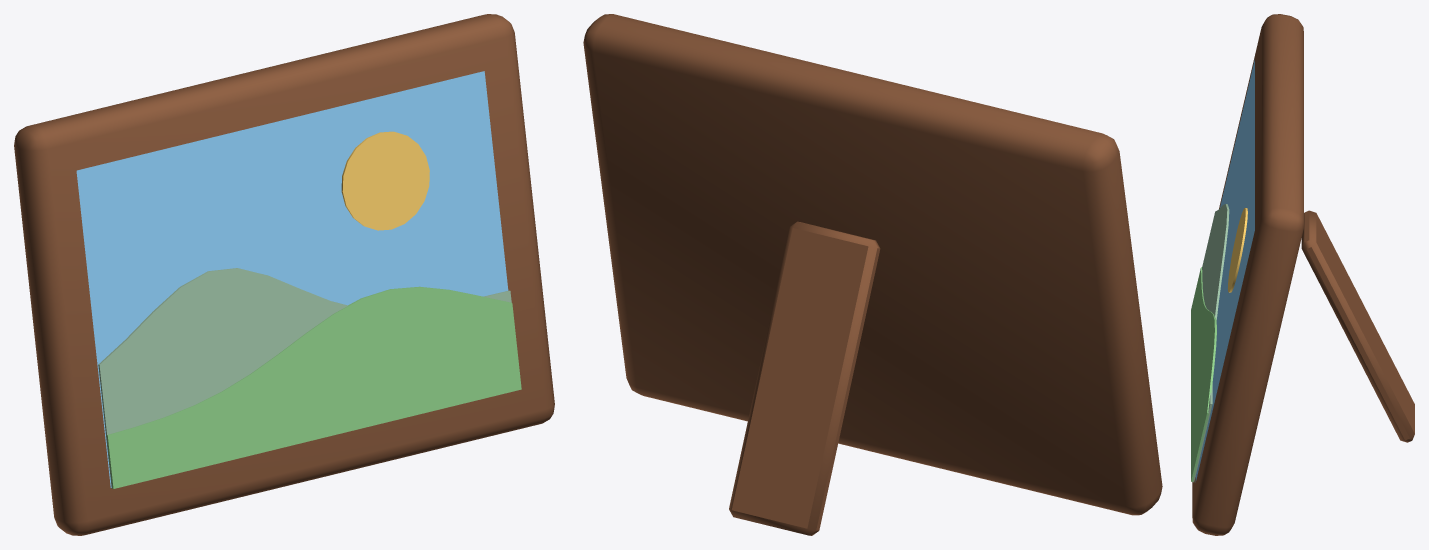
The model's file is photo_frame.glb.
3 renders of one model, left to right at view 1: azimuth 30°, elevation 25°; view 2: azimuth 150°, elevation 25°; view 3: azimuth 270°, elevation 25°, orthographic. The views are drawn at different scales.
Visible parts, largest first — view 1: frame, photo_sky, photo_hill, photo_hill2, photo_sun; view 2: frame; view 3: frame, photo_sky, photo_hill, photo_hill2, photo_sun.
Boxes of the visible parts, <box> form: frame: <box>14,14,554,535</box>; photo_sky: <box>76,71,508,487</box>; photo_hill: <box>106,286,521,488</box>; photo_hill2: <box>98,268,511,488</box>; photo_sun: <box>341,131,429,230</box>; frame: <box>583,14,1162,535</box>; frame: <box>1192,14,1414,535</box>; photo_sky: <box>1195,59,1254,482</box>; photo_hill: <box>1191,267,1216,481</box>; photo_hill2: <box>1192,204,1229,482</box>; photo_sun: <box>1227,208,1247,292</box>.
Bounding box in the file's own units: 0.18 × 0.1329 × 0.0826.
